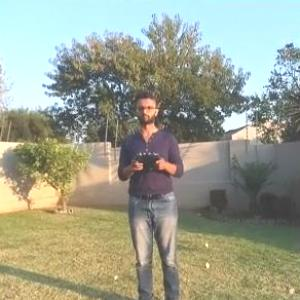follow: (112, 86, 189, 299)
